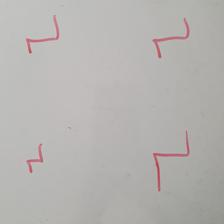three-prime-sticky-restriction-site: (152, 129, 192, 192), (153, 17, 190, 59), (25, 15, 61, 56), (27, 143, 44, 173)
